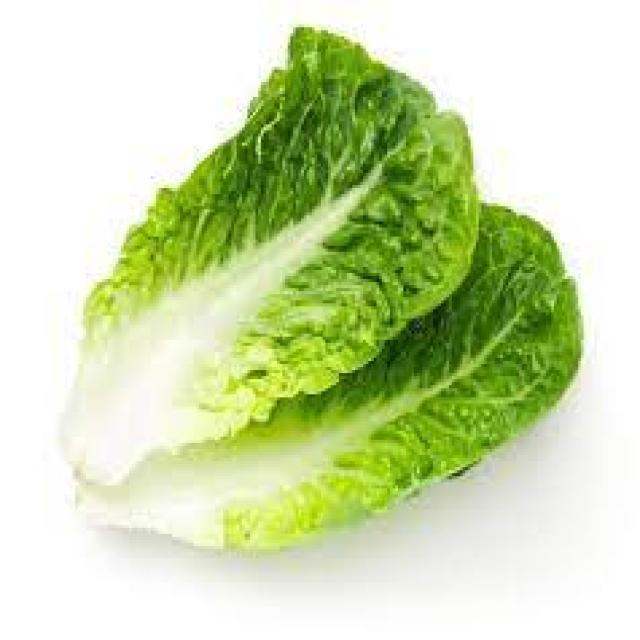Lettuce-Ready-to-Harvest: (66, 28, 481, 483), (130, 205, 582, 549)
